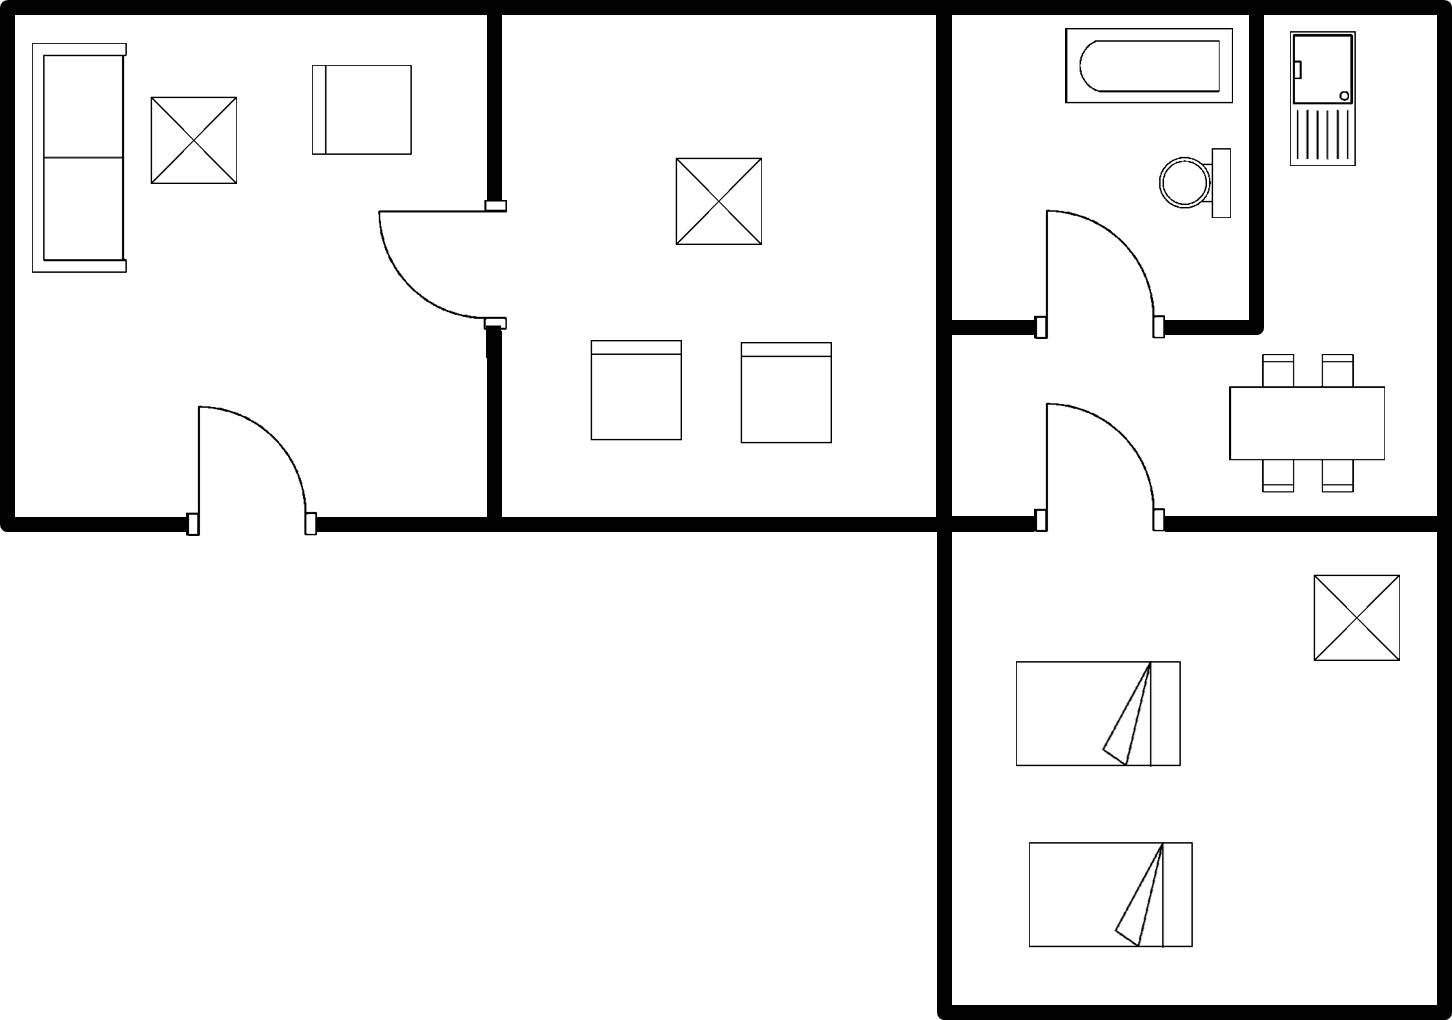bed: (1006, 652, 1191, 774), (1022, 833, 1206, 955)
coffee_table: (1304, 566, 1408, 674), (665, 151, 772, 251), (145, 91, 244, 190)
dining_table: (1219, 347, 1391, 502)
large_sink: (1153, 140, 1237, 226)
large_sofa: (25, 36, 136, 281)
sink: (1283, 26, 1360, 176)
small_sofa: (733, 333, 840, 450), (583, 334, 690, 450), (304, 56, 419, 162)
tub: (1057, 22, 1239, 112)
